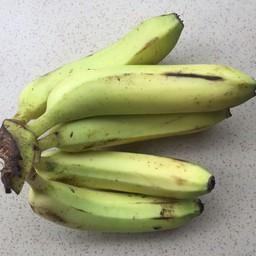Good_banana: (12, 15, 256, 113), (48, 58, 256, 113), (32, 180, 203, 243), (45, 149, 222, 196), (56, 111, 239, 151)
